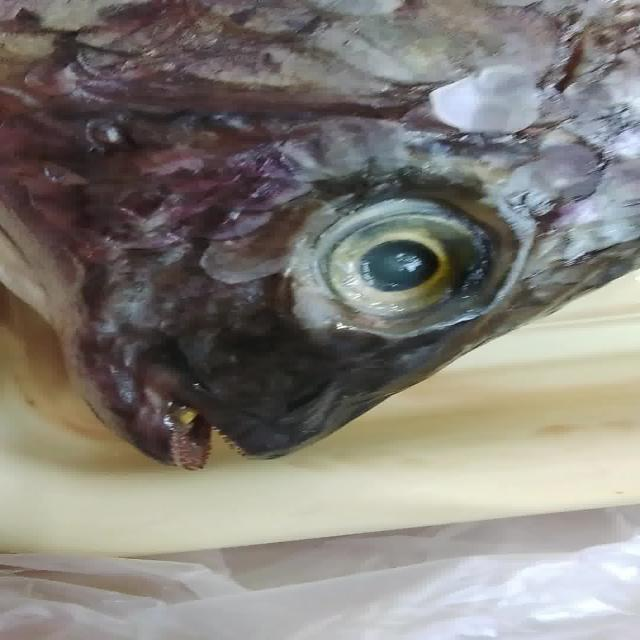Non-Fresh: (28, 142, 518, 359)
